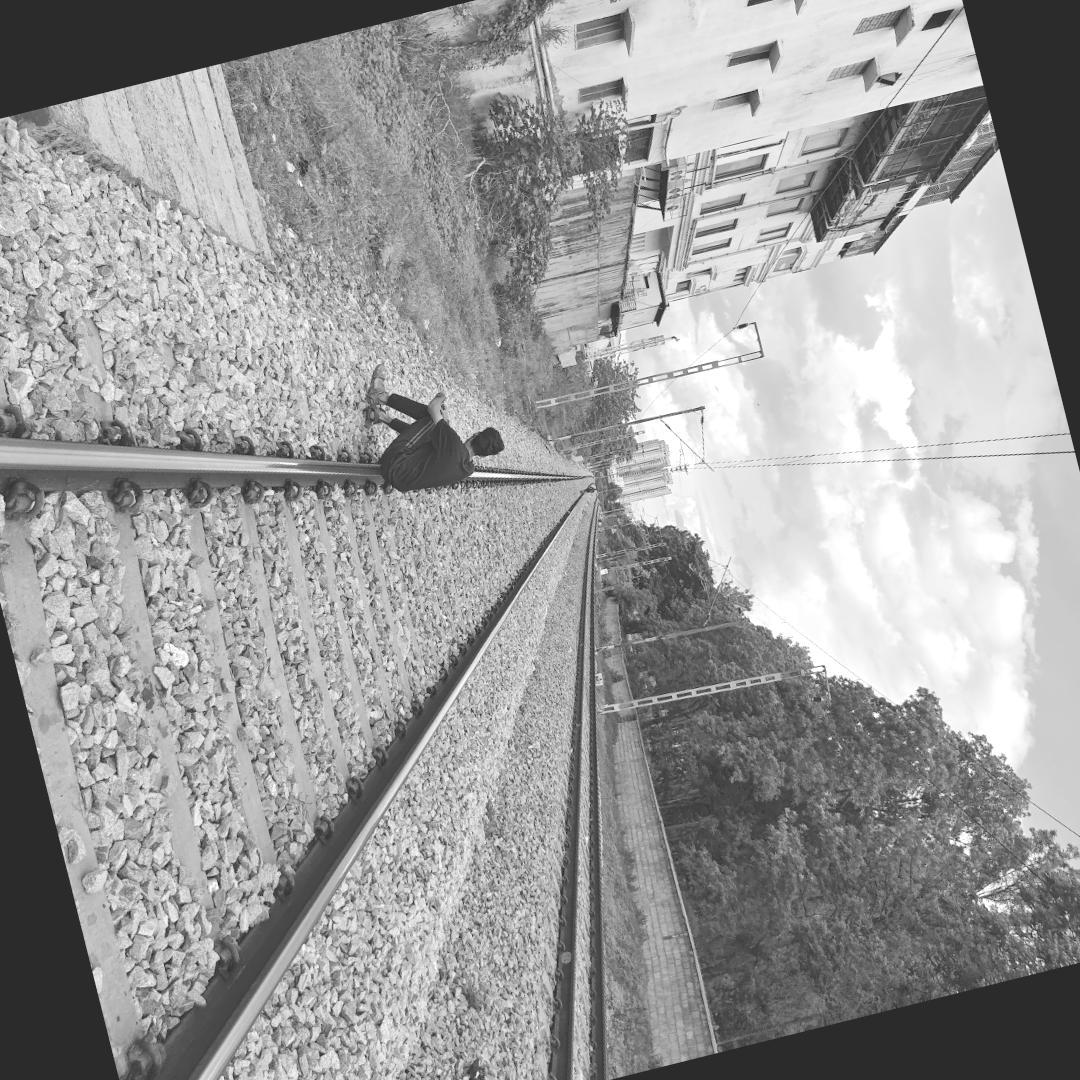sitting: (334, 339, 512, 507)
